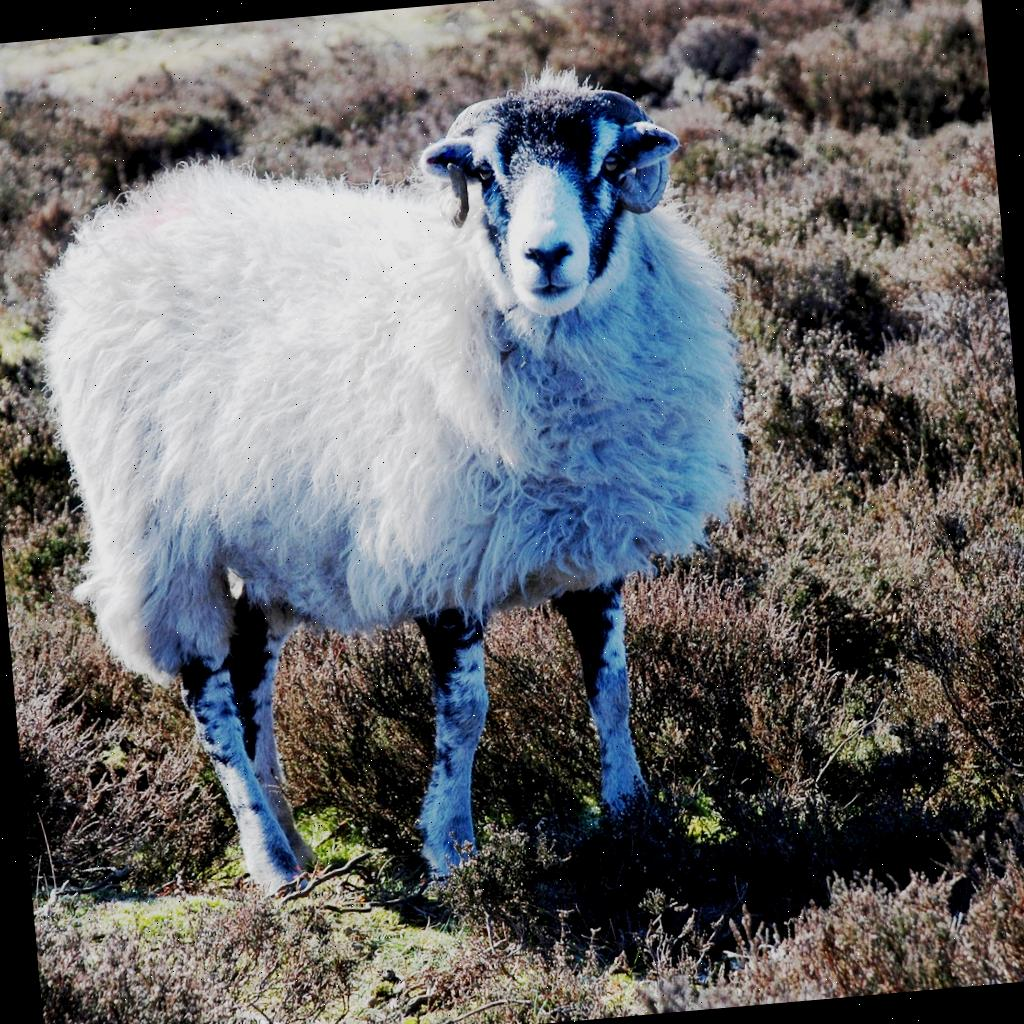Sheep: (18, 51, 781, 932)
